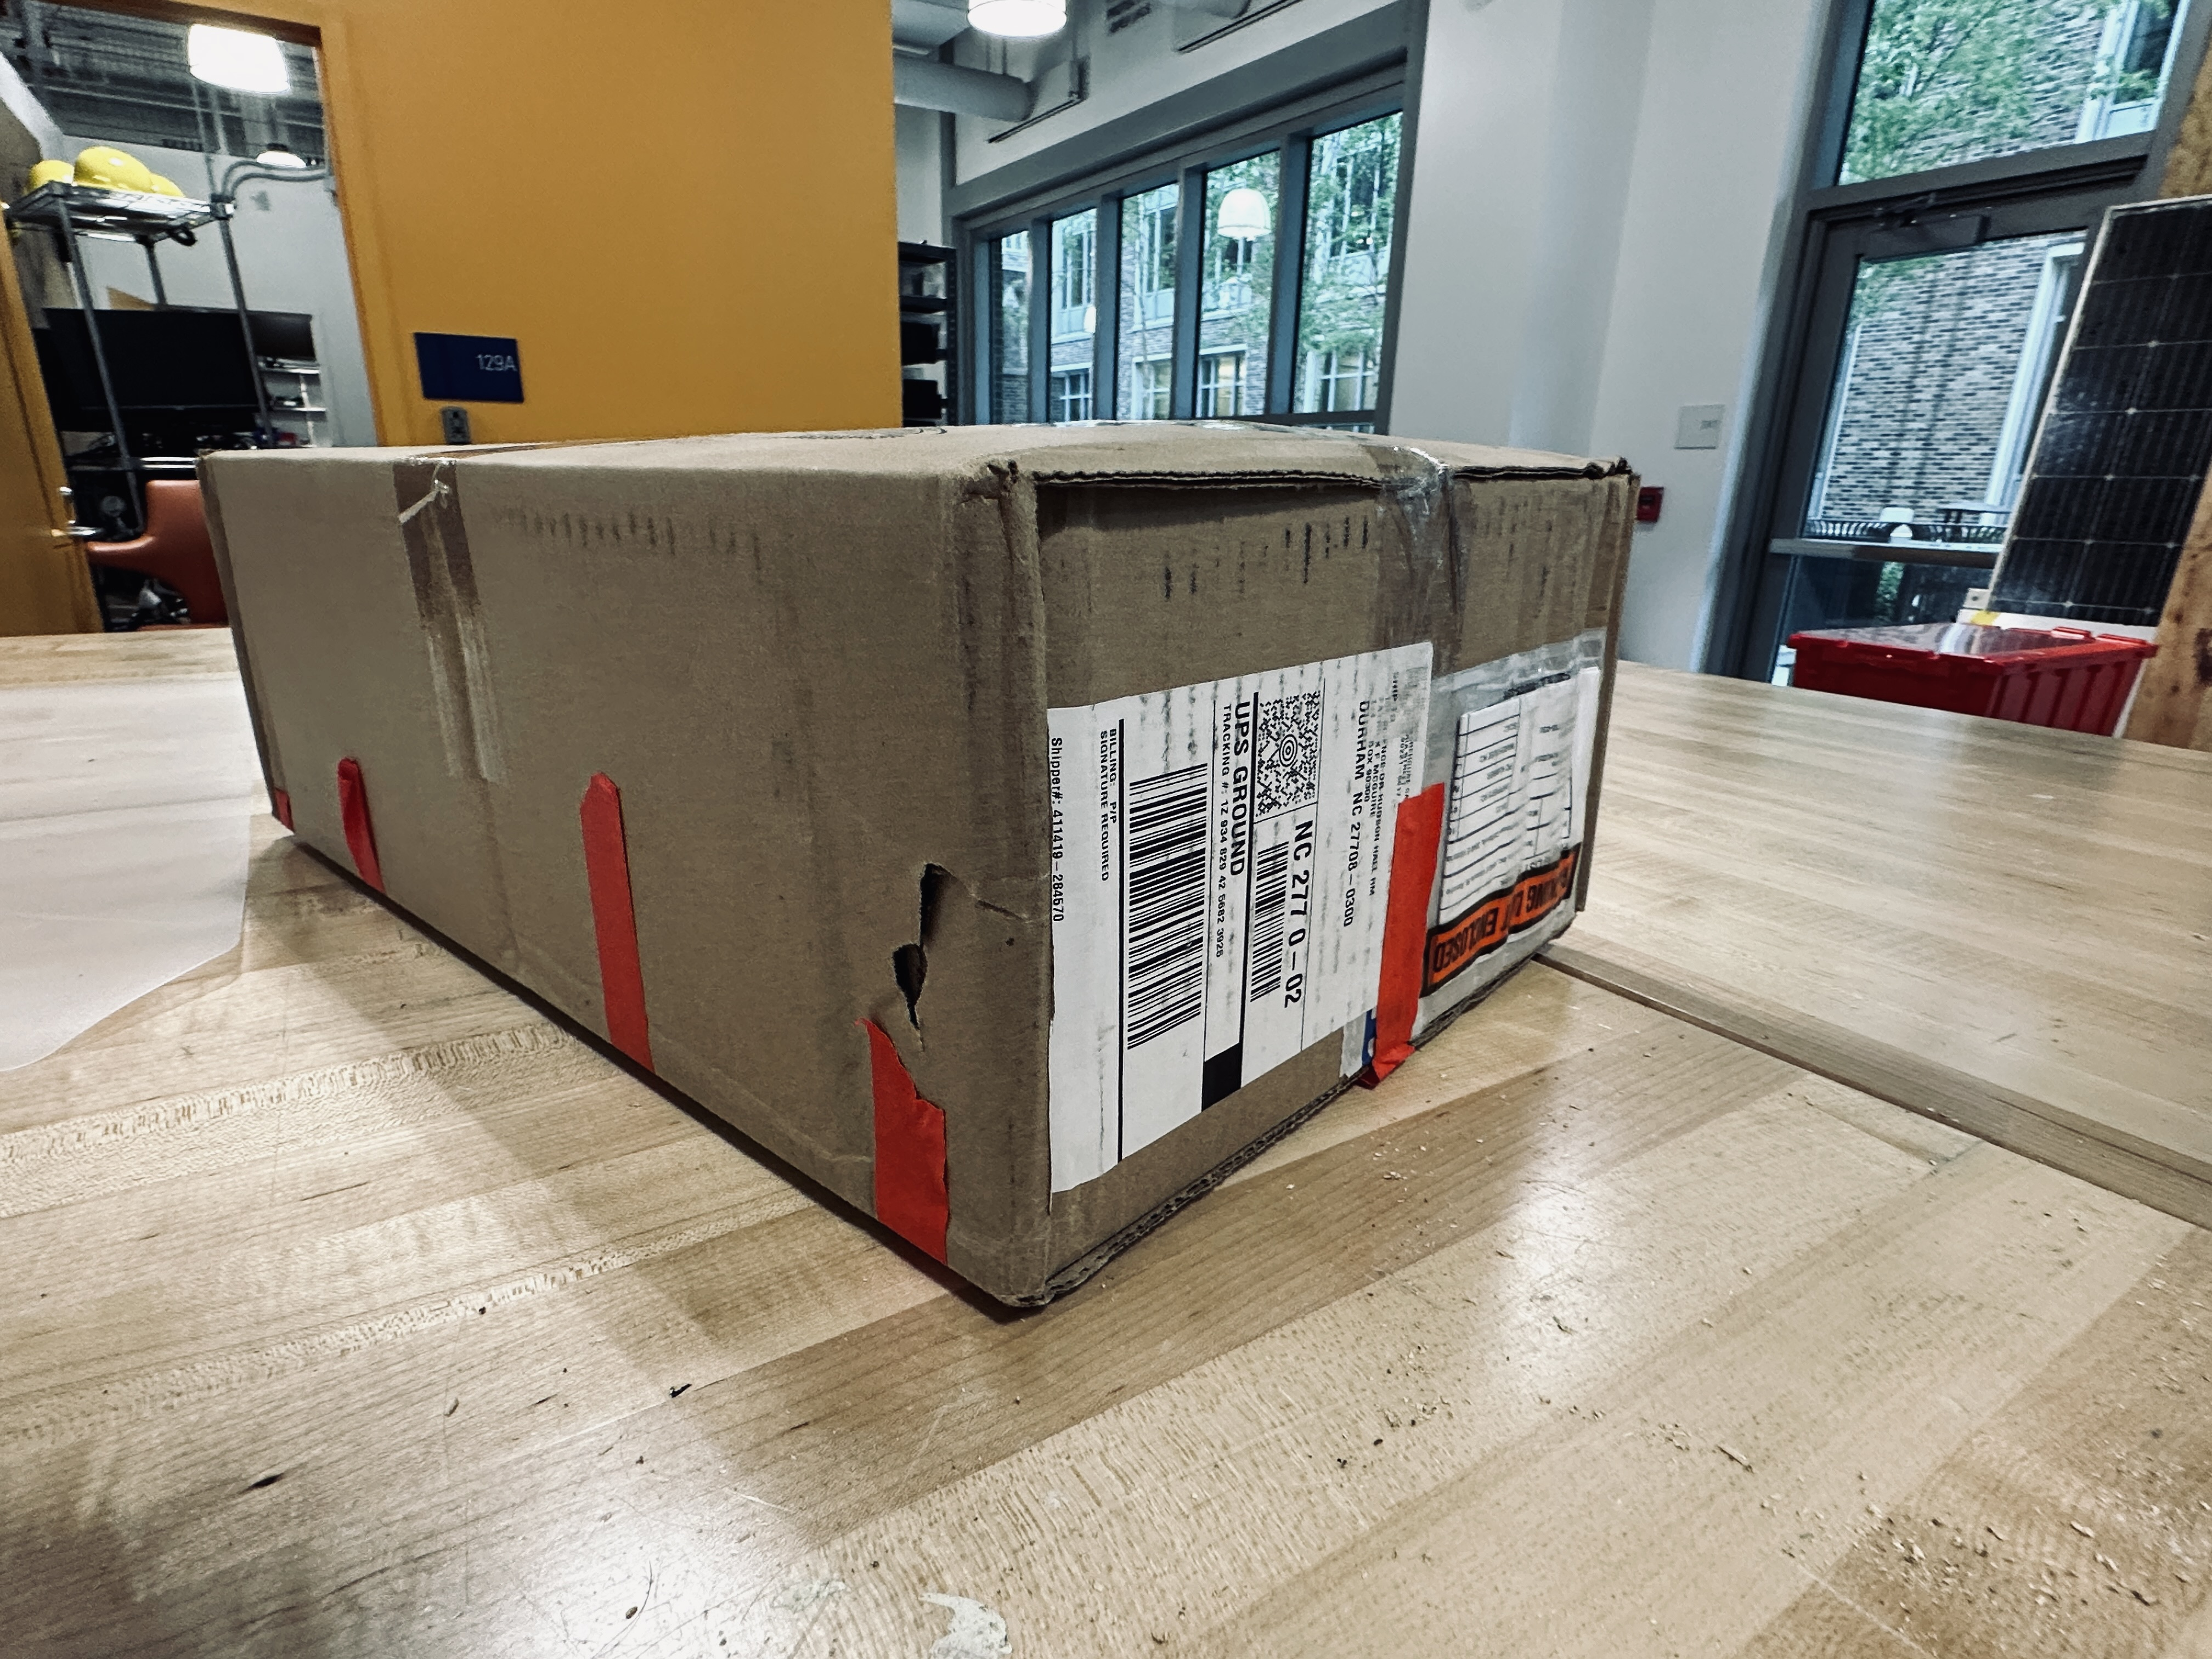Box_Obstacle: (193, 403, 1651, 1326)
